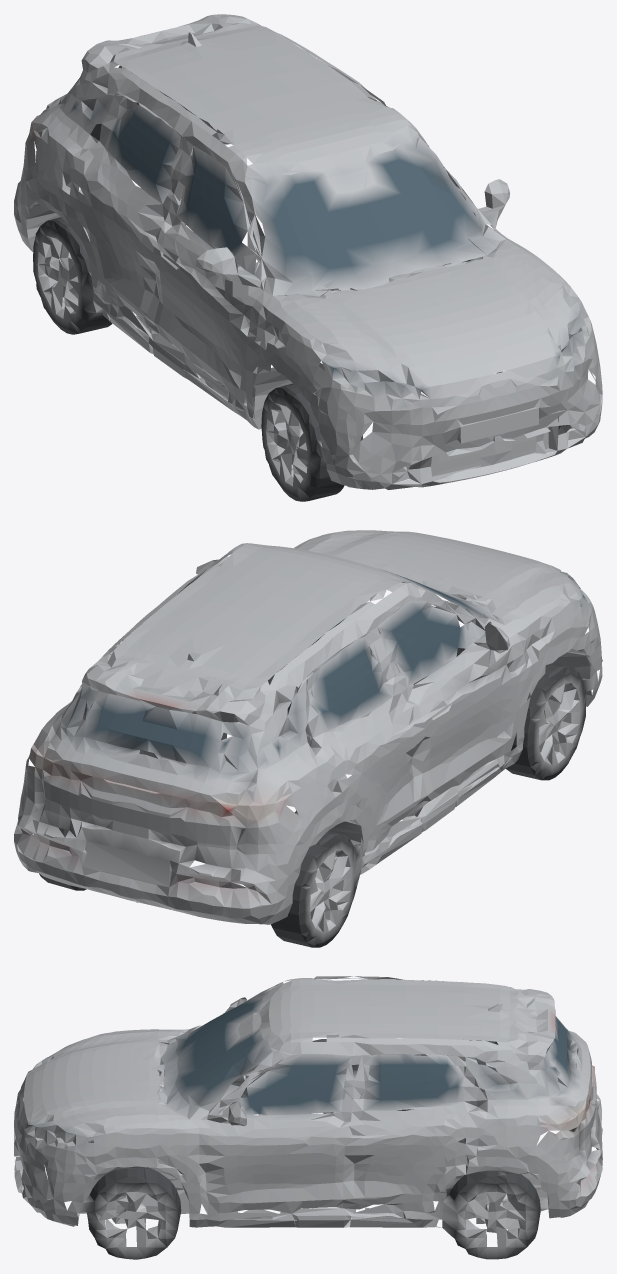
The model's file is byd-game.glb.
3 renders of one model, top to bottom at view 1: azimuth 30°, elevation 25°; view 2: azimuth 150°, elevation 25°; view 3: azimuth 270°, elevation 25°, orthographic. The views are drawn at different scales.
Parts seen in each view (by area): view 1: world; view 2: world; view 3: world.
Part boxes in pixels (bbox=[...]): world: bbox=[14, 14, 602, 501]; world: bbox=[14, 530, 602, 947]; world: bbox=[14, 976, 602, 1259].
Size of the model in its own units: 2.11 by 1.7 by 4.38.
